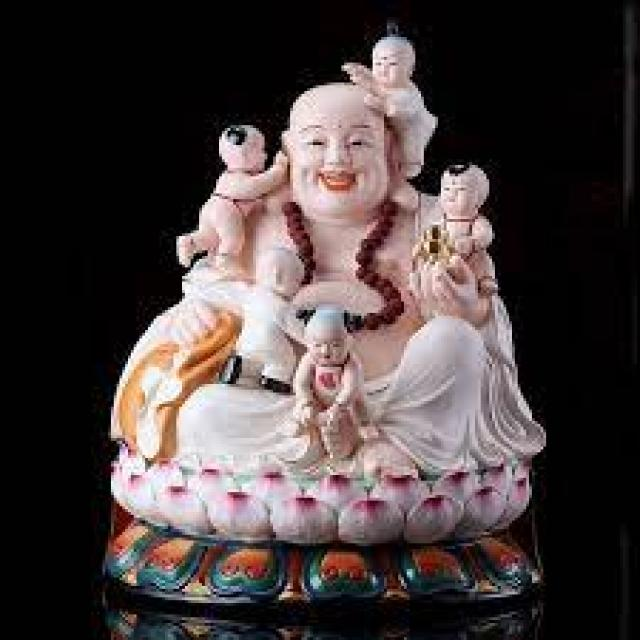Smiling Buddha: (221, 79, 420, 446)
